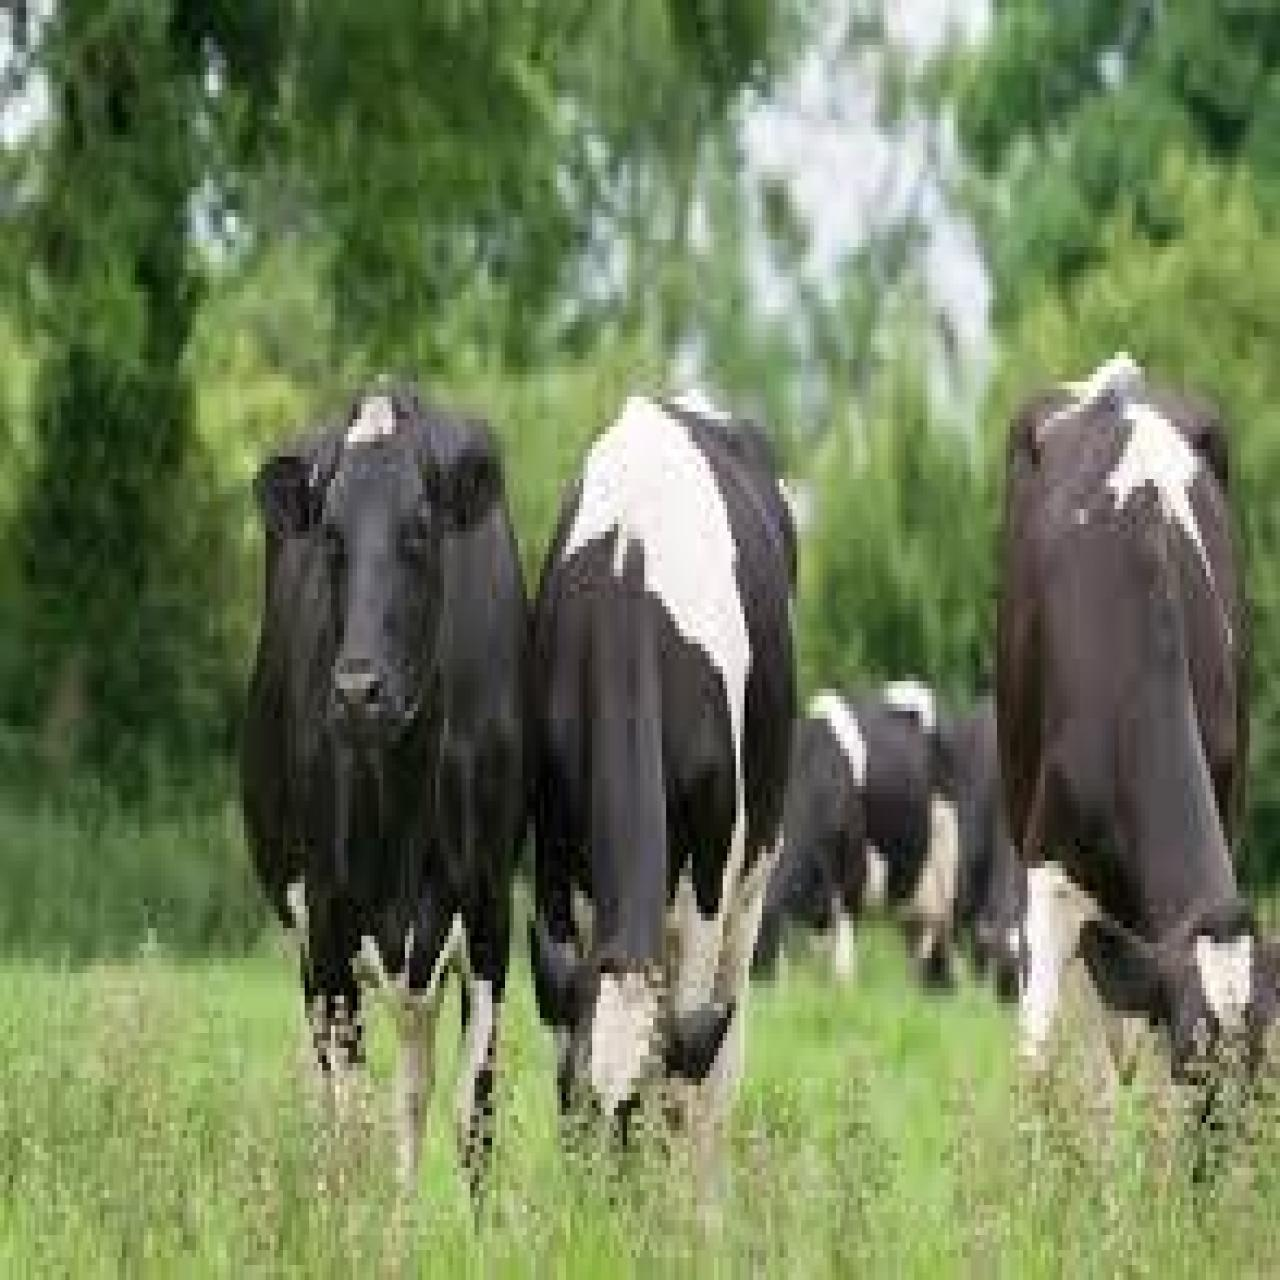cow: (999, 359, 1274, 1152), (527, 386, 797, 1179), (252, 400, 513, 1179)
